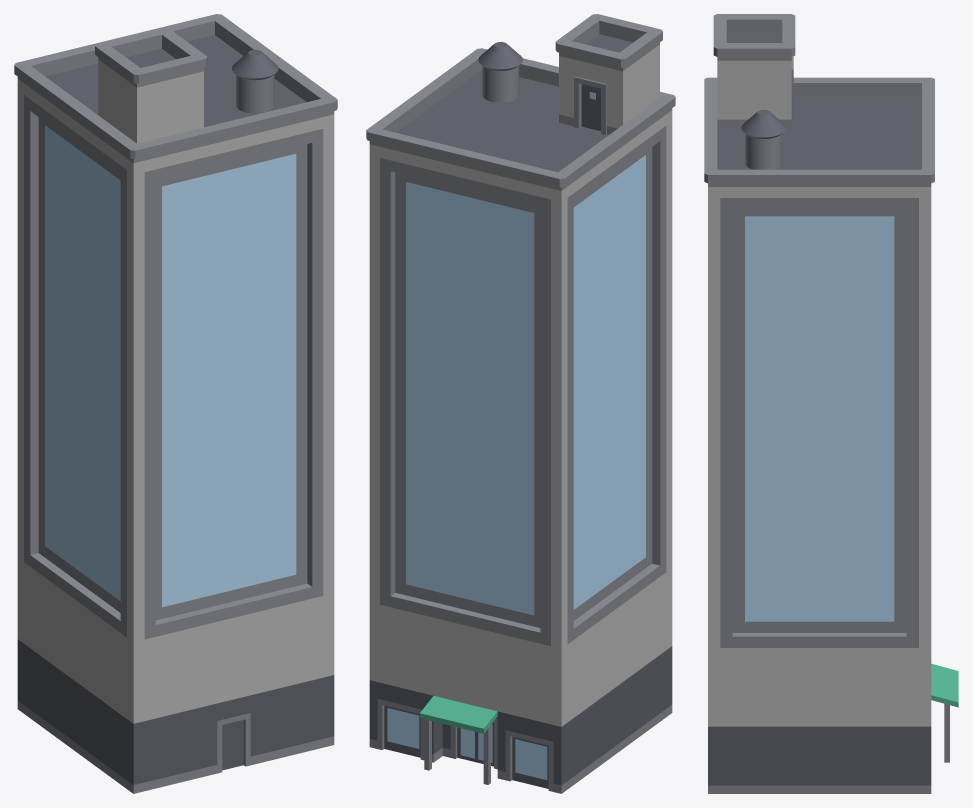
The model's file is skyscraperC.fbx.
The picture shows the model from 3 angles, left to right: view 1: azimuth 30°, elevation 25°; view 2: azimuth 150°, elevation 25°; view 3: azimuth 270°, elevation 25°; orthographic projection. The views are drawn at different scales.
Visible parts, largest first — view 1: skyscraperC; view 2: skyscraperC; view 3: skyscraperC.
Part boxes in pixels (<box>): skyscraperC: <box>14,14,337,793</box>; skyscraperC: <box>366,14,675,793</box>; skyscraperC: <box>704,14,958,793</box>.
Bounding box in the file's own units: 12.4 × 40.8 × 13.68.
